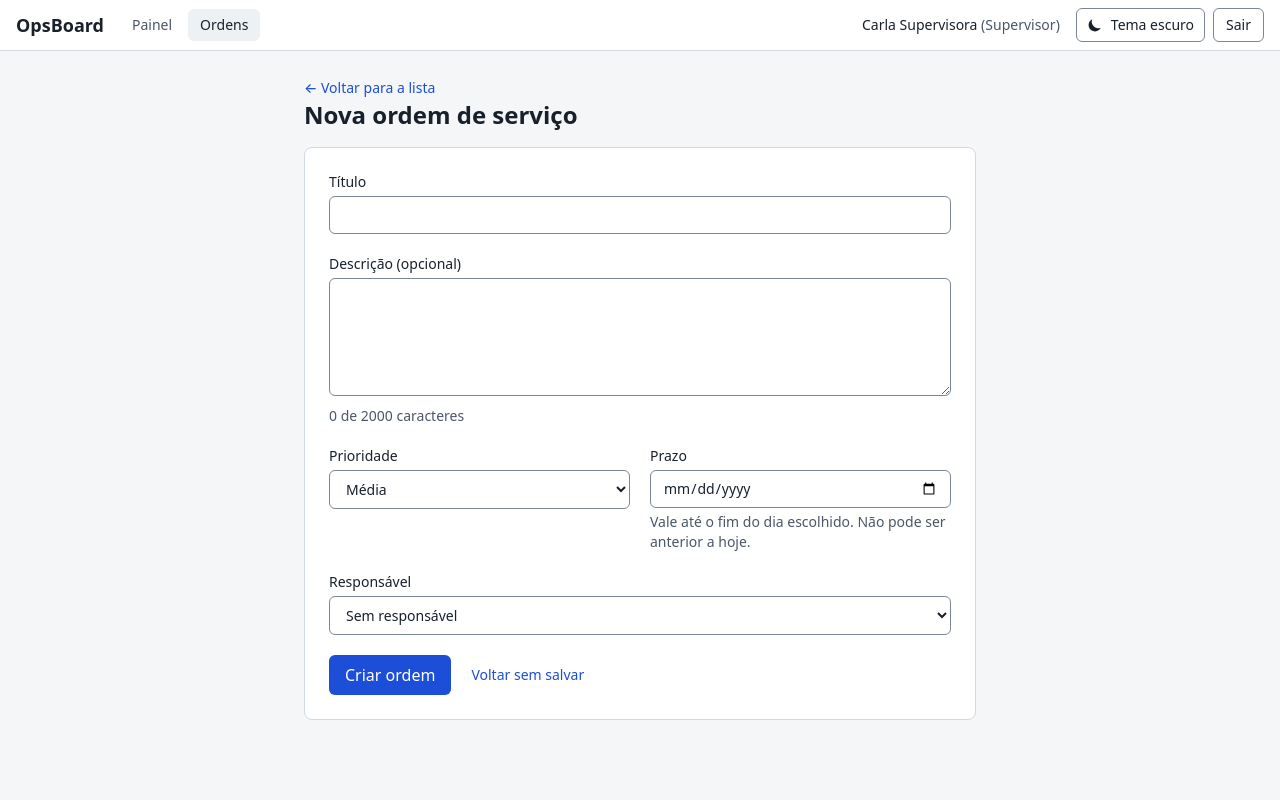
Test case: Nova ordem (/orders/new) › supervisor sem escolher: envia assigneeId null (sem responsável)
Expected: the dropdown labelled "Responsável" is enabled, [329, 596, 951, 635]
Type "Trocar filtro do ar" into the field labelled "Título".
click(640, 215); type("Trocar filtro do ar")  # box [329, 196, 951, 234]
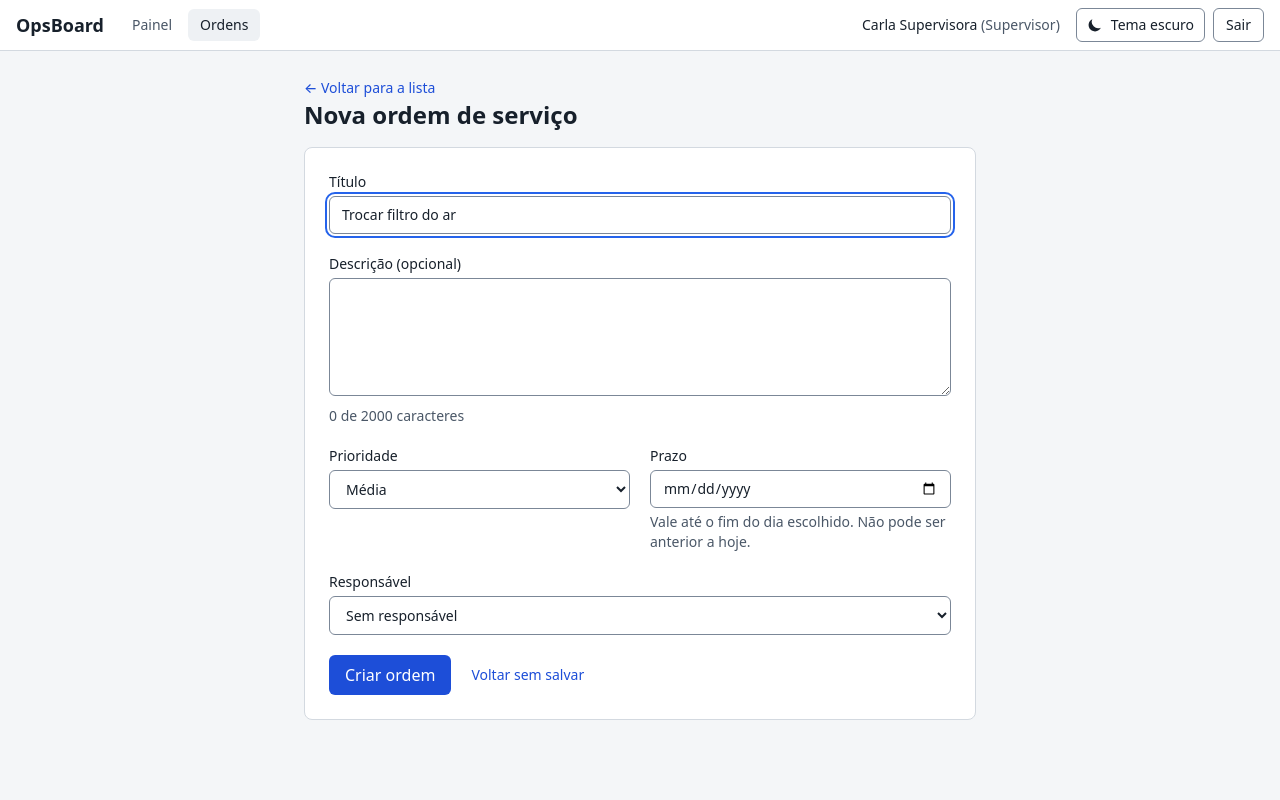
Type "2026-11-12" into the date field labelled "Prazo".
click(800, 489); type("2026-11-12")  # box [650, 470, 951, 508]
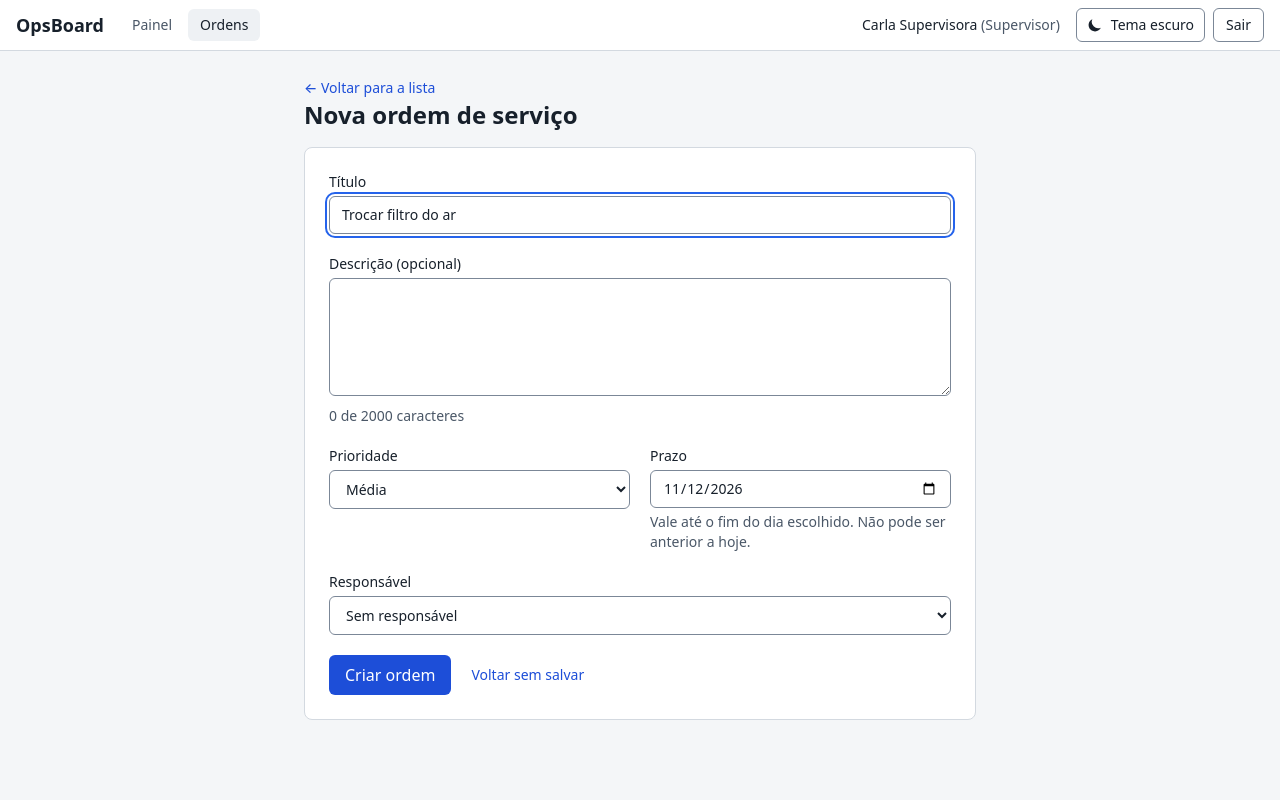
Click the button "Criar ordem".
click(390, 675)  # box [329, 655, 451, 695]
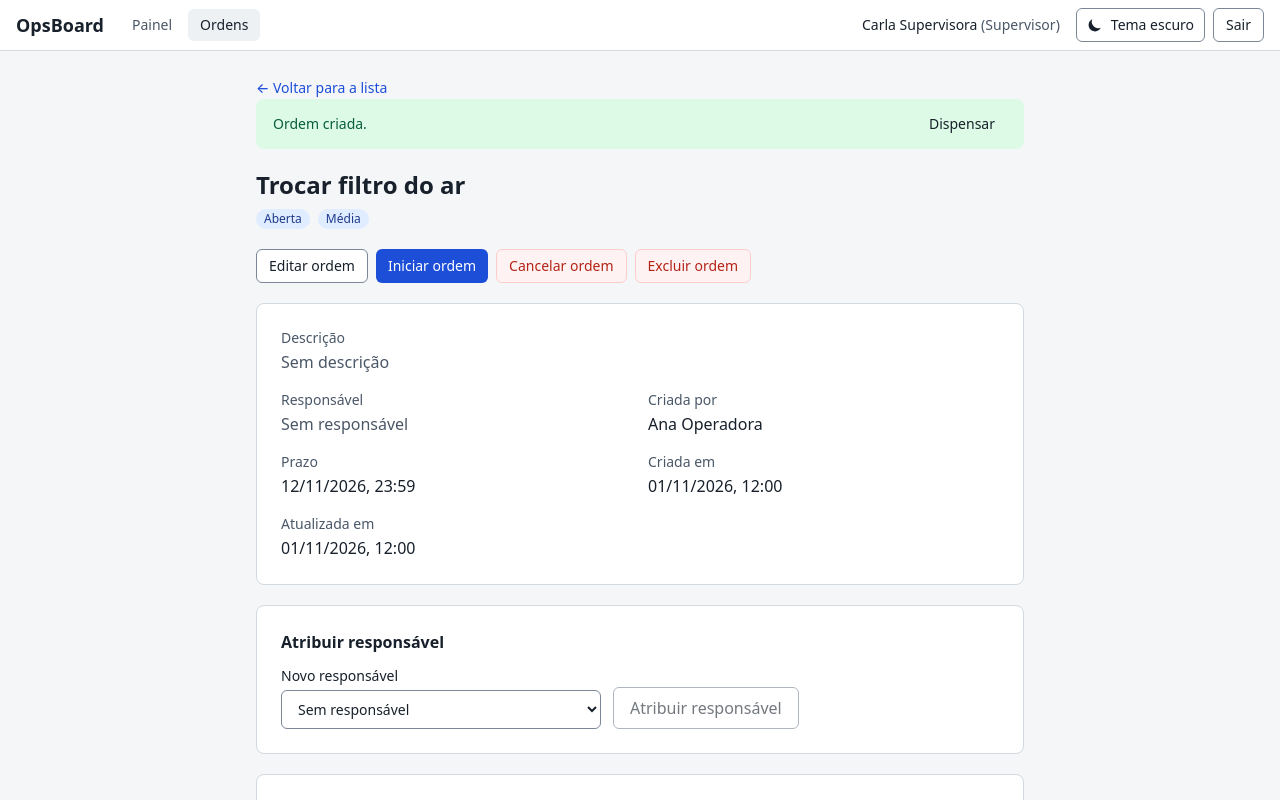
Now the text "Ordem criada." is shown, box [273, 114, 367, 134]
